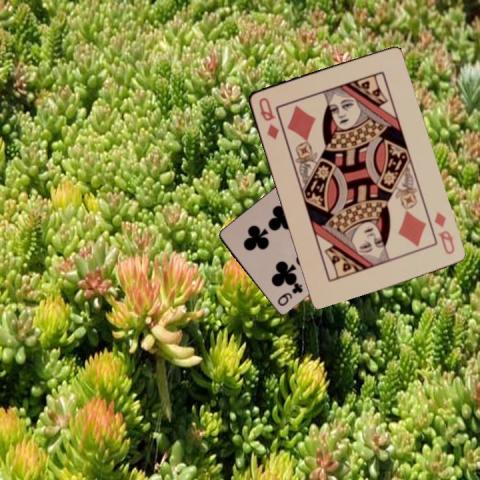9c: (274, 281, 304, 308)
Qd: (255, 94, 281, 141), (431, 208, 456, 256)
